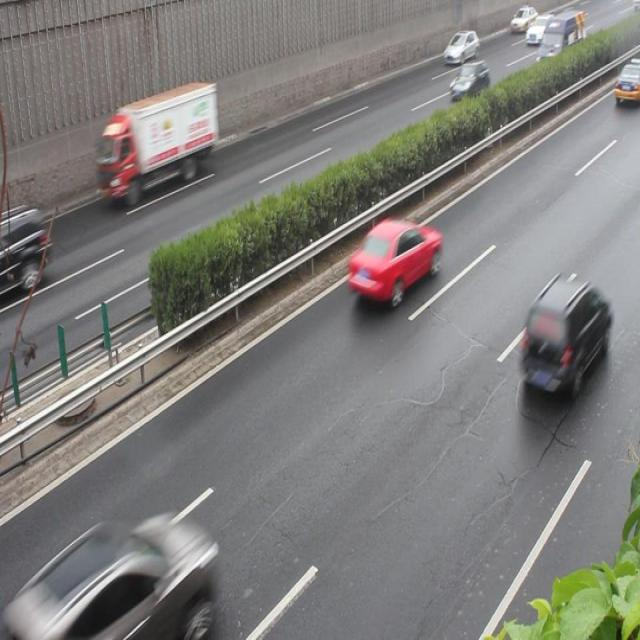bus: (98, 80, 217, 202)
car: (23, 513, 215, 640), (520, 274, 610, 392), (347, 218, 440, 306), (614, 61, 640, 104)
